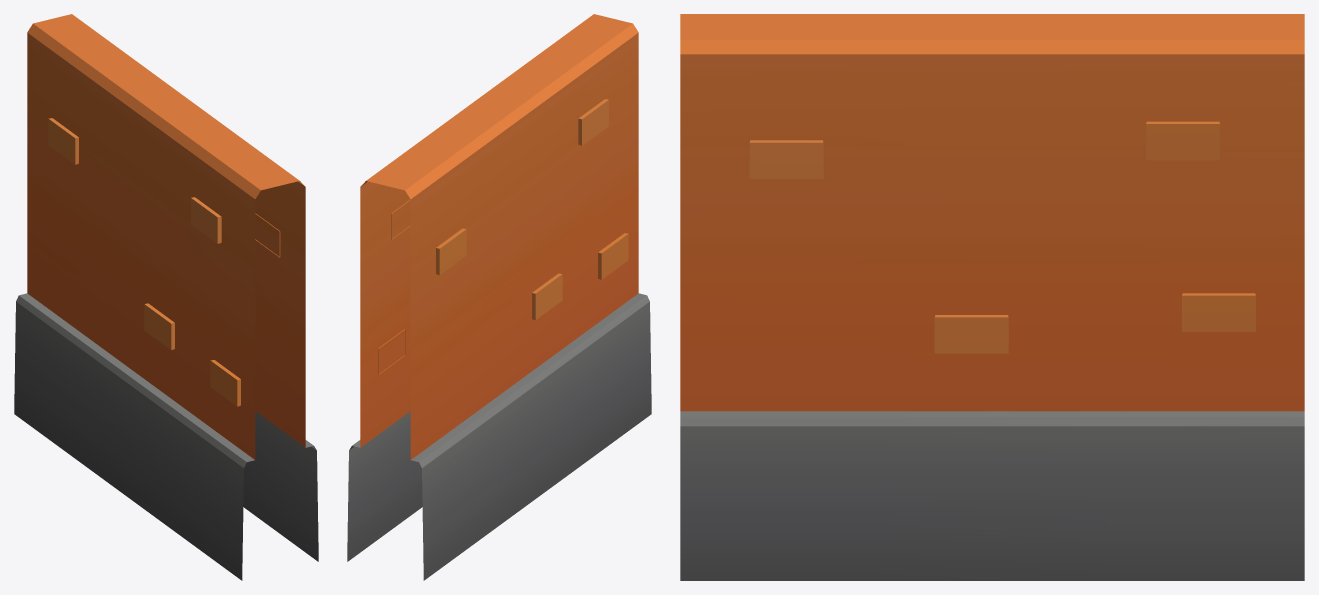
Rendered from WallFence_3_3_A.fbx.
3 views of the same model, side by side, from view 1: azimuth 30°, elevation 25°; view 2: azimuth 150°, elevation 25°; view 3: azimuth 270°, elevation 25° (orthographic). The views are drawn at different scales.
Visible parts, largest first — view 1: WallFence_3_3_A; view 2: WallFence_3_3_A; view 3: WallFence_3_3_A.
Part boxes in pixels (bbox=[...]): WallFence_3_3_A: bbox=[14, 14, 318, 580]; WallFence_3_3_A: bbox=[347, 14, 651, 580]; WallFence_3_3_A: bbox=[680, 14, 1304, 580].
Bounding box in the file's own units: 38.8 × 187 × 200.
